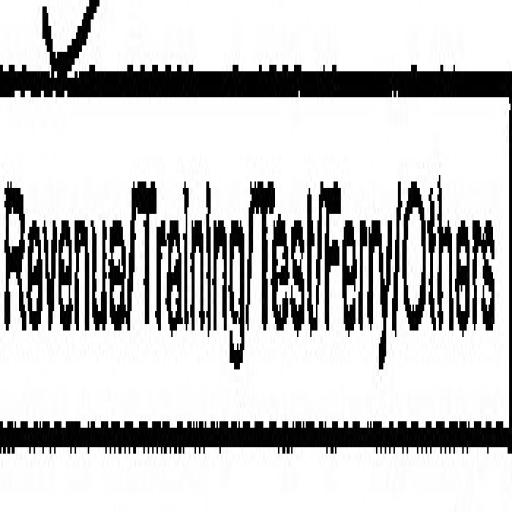check: (0, 0, 132, 479)
